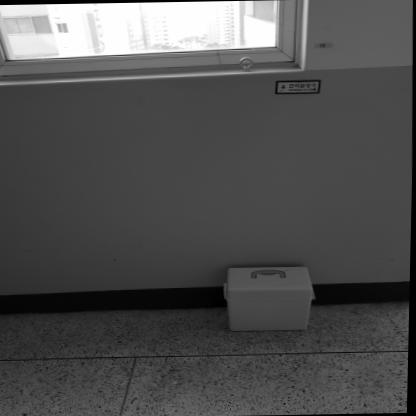DDL: (222, 263, 318, 332)
